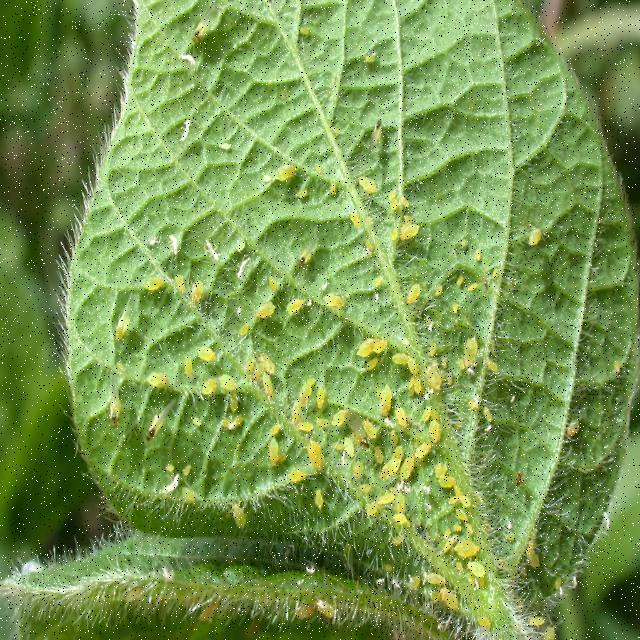Aphids: (354, 327, 389, 378), (314, 284, 357, 322), (251, 297, 289, 327), (396, 221, 431, 253)
